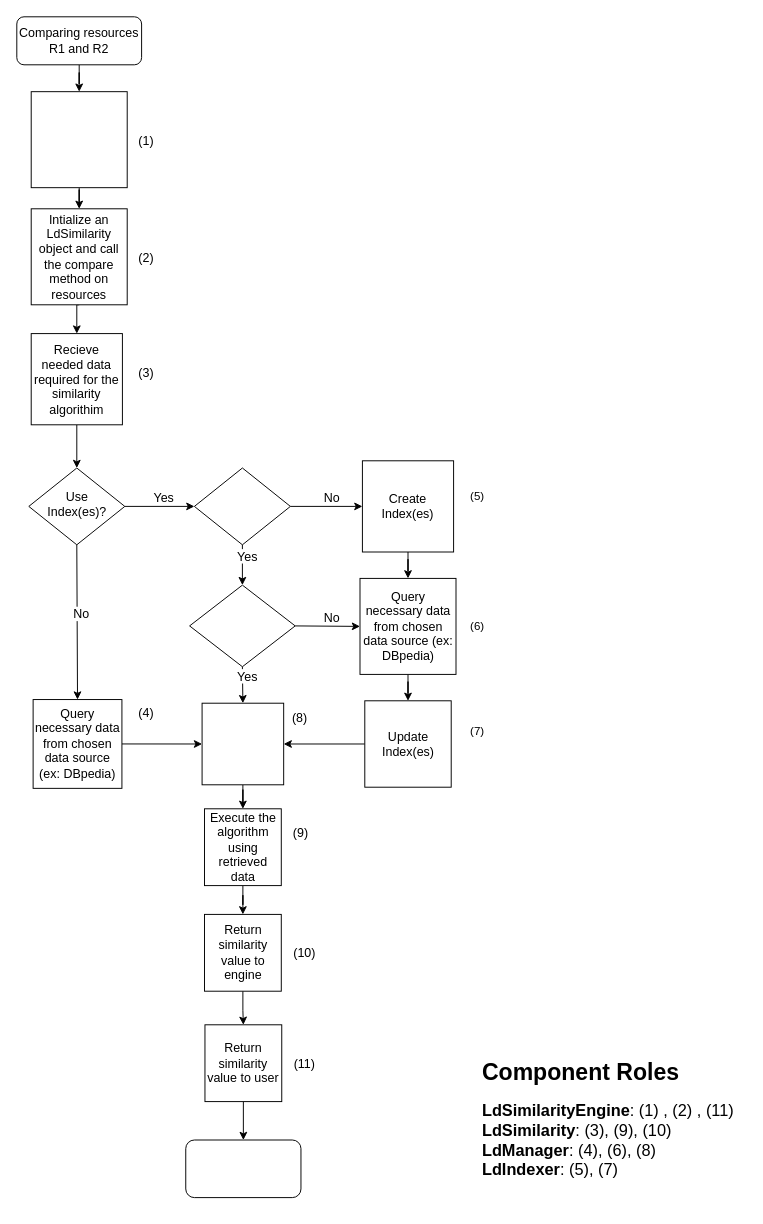
Image size: 763x1224. Some labels were removed from this diagram. The shapes that lost their labels are listed below. From the top down, each one's centre as x and y in pixels, then its label:
At (x=78, y=139): "Receive Resource and config parameters from user".
At (x=241, y=506): "Index(es) Exists?".
At (x=242, y=625): "Needed Data Found?".
At (x=242, y=743): "Retrieve Data and return it to the created LdSimilarity object".
At (x=243, y=1168): "Similarity Process Complete".
